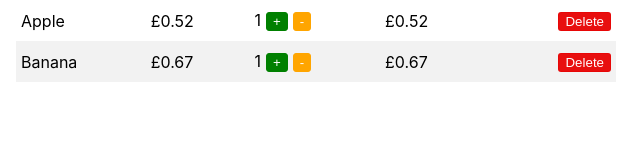
Test: OrderTable Component › renders table rows for product data
Expected: the text "Apple" is shown, [16,0,146,41]
Expected: the text "Banana" is shown, [16,41,146,82]
// Simulate clicking the plus button to increase quantity
Click the button with test id "plus-button" in the row of "Apple".
click(277, 22)  # box [266,12,288,31]
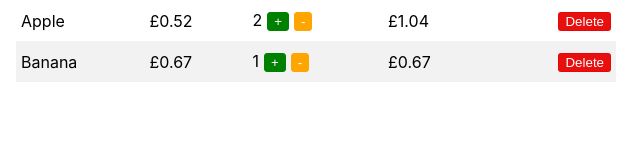
Expected: the text with test id "quantity-cell" reads "2", [252,10,262,30]
// Simulate clicking the minus button to decrease quantity
Click the button with test id "minus-button" in the row of "Apple".
click(303, 22)  # box [294,12,312,31]
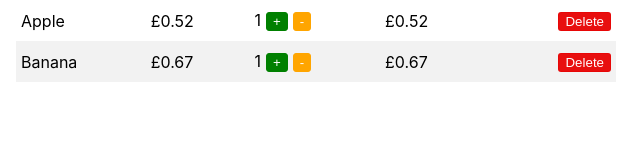
Expected: the text with test id "quantity-cell" in the row of "Apple" reads "1", [254,10,261,30]
